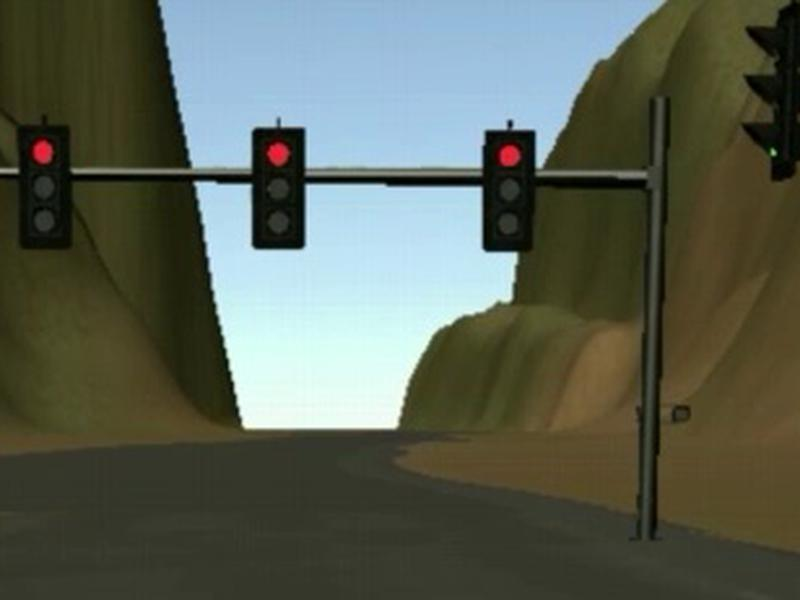Red: (17, 125, 73, 250), (482, 129, 536, 252), (251, 126, 305, 248)
